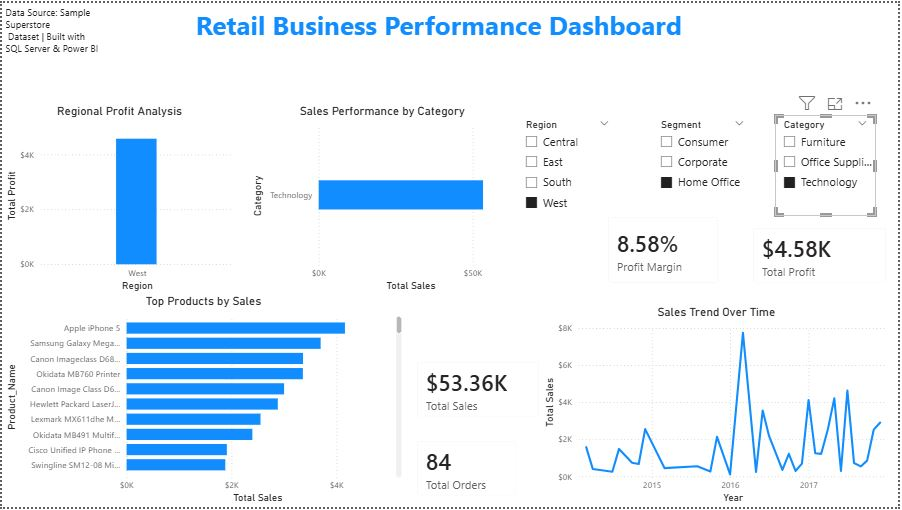

The dashboard page shown, as its layout file describes it:
{"tool":"powerbi","page":{"name":"Page 1","canvas":[1280,720],"ordinal":0},"visuals":[{"type":"cardVisual","fields":{"Data":["retail_sales_clean.Total Sales"]},"box":[576,496,208,112],"z":0},{"type":"cardVisual","fields":{"Data":["retail_sales_clean.Total Profit"]},"box":[1056,304,224,112],"z":1},{"type":"cardVisual","fields":{"Data":["retail_sales_clean.Total Orders"]},"box":[576,608,176,112],"z":2},{"type":"cardVisual","fields":{"Data":["retail_sales_clean.Profit Margin"]},"box":[848,288,192,128],"z":3},{"type":"clusteredBarChart","title":"Sales Performance by Category","fields":{"Category":["retail_sales_clean.Category"],"Y":["retail_sales_clean.Total Sales"]},"box":[352,144,384,272],"z":4},{"type":"clusteredColumnChart","title":"Regional Profit Analysis","fields":{"Category":["retail_sales_clean.Region"],"Y":["retail_sales_clean.Total Profit"]},"box":[0,144,336,272],"z":5},{"type":"lineChart","title":"Sales Trend Over Time","fields":{"Y":["retail_sales_clean.Total Sales"],"Category":["retail_sales_clean.Order_Date.Variation.Date Hierarchy.Year","retail_sales_clean.Order_Date.Variation.Date Hierarchy.Month"]},"box":[768,432,504,288],"z":6},{"type":"barChart","title":"Top Products by Sales","fields":{"Category":["retail_sales_clean.Product_Name"],"Y":["retail_sales_clean.Total Sales"]},"box":[0,416,576,304],"z":7},{"type":"slicer","fields":{"Values":["retail_sales_clean.Region"]},"box":[736,160,144,144],"z":8},{"type":"slicer","fields":{"Values":["retail_sales_clean.Segment"]},"box":[928,160,144,144],"z":9},{"type":"slicer","fields":{"Values":["retail_sales_clean.Category"]},"box":[1104,160,144,144],"z":10},{"type":"textbox","box":[0,0,1248,64],"z":11},{"type":"textbox","box":[0,0,192,80],"z":12}]}

Visuals, with their boxes in screenshot pixels (x1, y1, x2, y2), scaled from the page's 1280x720 canvas onto the 902x510 screenshot:
cardVisual - retail_sales_clean.Total Sales: pyautogui.locateOnScreen(406, 351, 552, 431)
cardVisual - retail_sales_clean.Total Profit: pyautogui.locateOnScreen(744, 215, 901, 295)
cardVisual - retail_sales_clean.Total Orders: pyautogui.locateOnScreen(406, 431, 530, 509)
cardVisual - retail_sales_clean.Profit Margin: pyautogui.locateOnScreen(598, 204, 733, 295)
"Sales Performance by Category" clusteredBarChart: pyautogui.locateOnScreen(248, 102, 519, 295)
"Regional Profit Analysis" clusteredColumnChart: pyautogui.locateOnScreen(0, 102, 237, 295)
"Sales Trend Over Time" lineChart: pyautogui.locateOnScreen(541, 306, 896, 509)
"Top Products by Sales" barChart: pyautogui.locateOnScreen(0, 295, 406, 509)
slicer - retail_sales_clean.Region: pyautogui.locateOnScreen(519, 113, 620, 215)
slicer - retail_sales_clean.Segment: pyautogui.locateOnScreen(654, 113, 755, 215)
slicer - retail_sales_clean.Category: pyautogui.locateOnScreen(778, 113, 879, 215)
textbox: pyautogui.locateOnScreen(0, 0, 879, 45)
textbox: pyautogui.locateOnScreen(0, 0, 135, 57)
